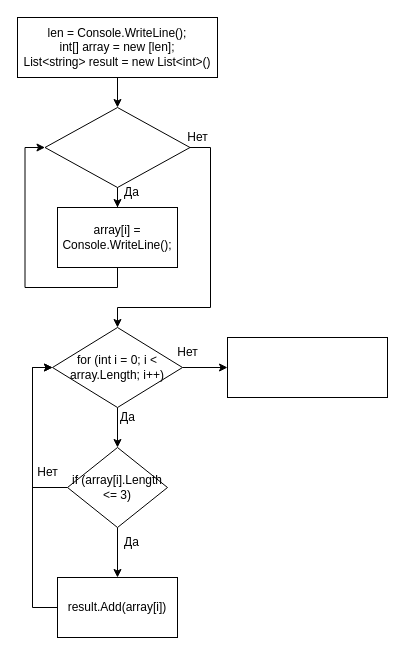
Image size: 405x655. Some labels were removed from this diagram. The centre of each missing label's shape, as x and y in pixels:
"Console.WriteLine(result)" belongs at (307,367).
"for (int i = 0; i < len; i++)" belongs at (117,147).
